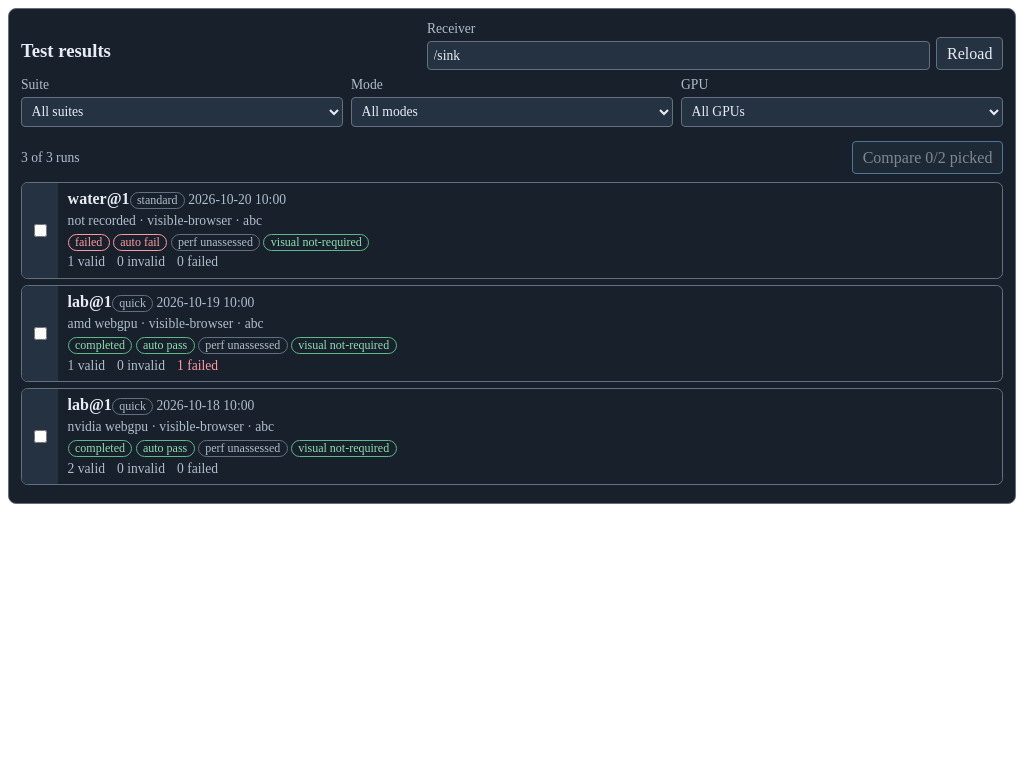
Test case: TestResultsComponent › says so when a run has nothing to compare with
Click the button with class "run-open" that starts with "water@1" at [99, 199], box [58, 183, 1002, 278]
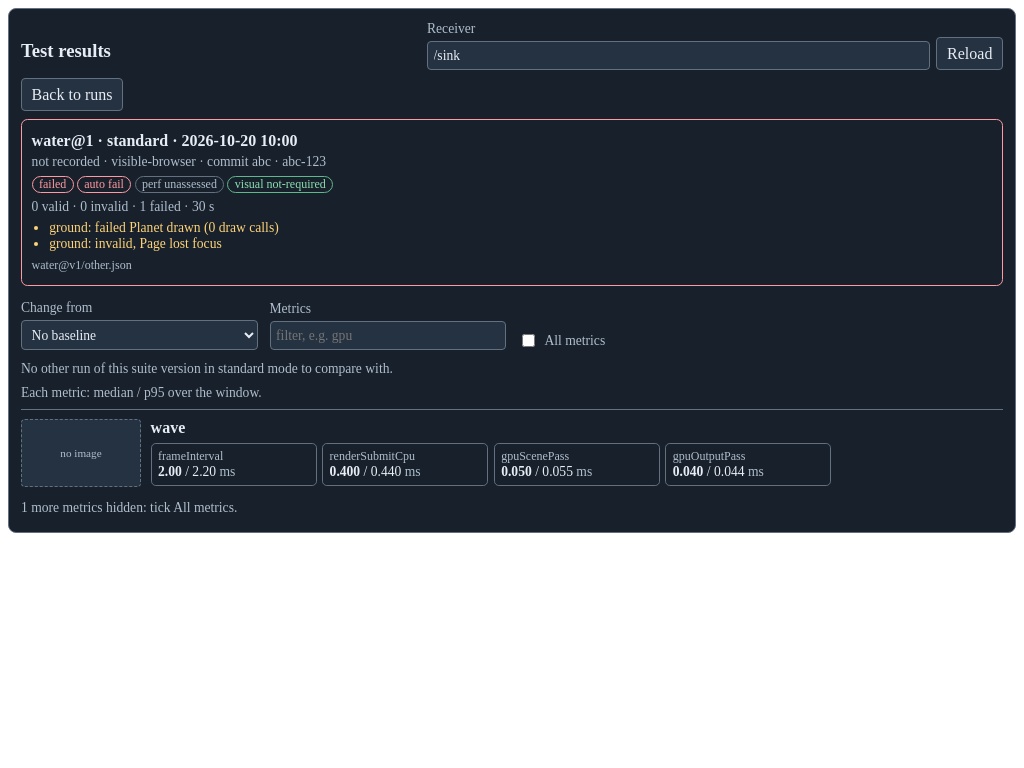
Check: the text "No other run of this suite version in standard mode" is shown, box [21, 361, 393, 376]
